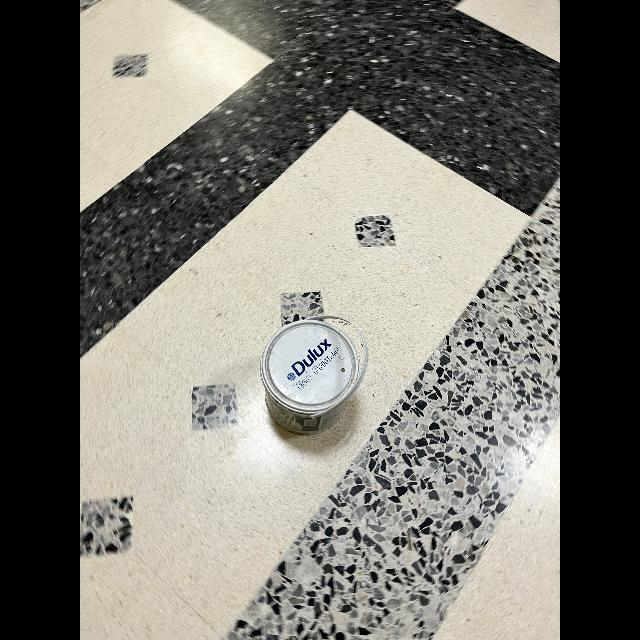paint_bucket: (262, 314, 364, 432)
